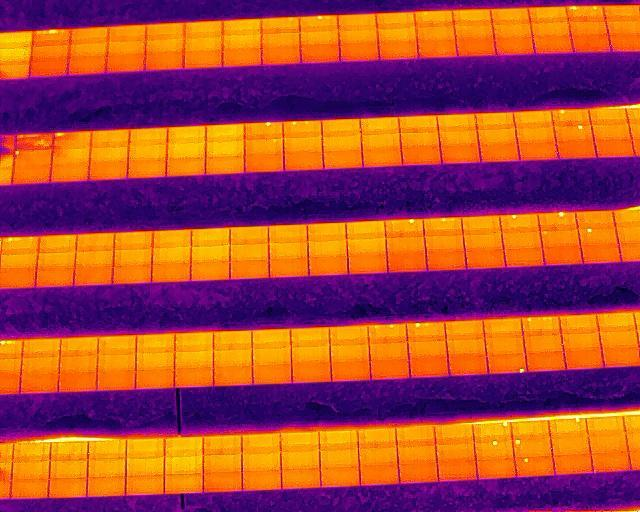Cell: (500, 212, 539, 233), (513, 437, 552, 458), (514, 455, 553, 476), (475, 439, 513, 460), (489, 352, 527, 373), (13, 147, 52, 166), (538, 211, 576, 230), (474, 421, 512, 440), (549, 419, 587, 438), (385, 218, 422, 237), (52, 130, 91, 148), (555, 124, 594, 142), (542, 228, 579, 246), (578, 228, 617, 245), (245, 138, 284, 155), (416, 9, 453, 26), (245, 122, 282, 139), (551, 110, 590, 125)
Cell-Multi: (423, 217, 462, 236), (368, 324, 406, 342), (14, 131, 52, 149), (301, 15, 340, 32), (521, 316, 559, 333), (33, 29, 71, 46), (0, 235, 40, 251), (567, 4, 604, 21), (406, 323, 445, 339), (283, 121, 322, 137)
No-Anomaly: (345, 220, 387, 241), (345, 236, 386, 256), (253, 363, 292, 384), (485, 334, 524, 355), (524, 332, 563, 353), (175, 330, 214, 351), (291, 326, 330, 347), (87, 477, 126, 498), (88, 457, 127, 478), (528, 349, 565, 371), (12, 442, 52, 462), (448, 354, 488, 374), (387, 253, 427, 273), (543, 245, 581, 266), (10, 479, 48, 500), (554, 453, 592, 474), (503, 229, 542, 249), (203, 471, 242, 491), (243, 470, 282, 490), (320, 467, 359, 487), (550, 435, 589, 455), (97, 334, 136, 354), (136, 332, 175, 352), (49, 478, 88, 498), (438, 111, 477, 131), (465, 250, 503, 270), (127, 476, 165, 496), (165, 474, 203, 494), (461, 216, 501, 235), (282, 468, 320, 488), (592, 451, 630, 471), (358, 445, 398, 464), (436, 442, 474, 462), (204, 434, 242, 454), (436, 424, 474, 444), (21, 372, 59, 392), (136, 369, 174, 389), (292, 362, 330, 382), (213, 347, 253, 366), (560, 314, 598, 334), (165, 454, 203, 474), (114, 247, 153, 266), (581, 244, 620, 263), (39, 234, 78, 253), (115, 230, 154, 249), (191, 228, 230, 247), (127, 439, 166, 458), (165, 437, 204, 456), (397, 426, 436, 445), (175, 367, 214, 386), (214, 365, 253, 384), (331, 361, 370, 380), (410, 356, 449, 375), (565, 349, 604, 368), (253, 345, 292, 364), (446, 336, 485, 355), (113, 265, 152, 284), (191, 261, 230, 280), (426, 251, 465, 270), (399, 463, 438, 482), (0, 268, 37, 288), (477, 459, 514, 479), (153, 229, 191, 248), (230, 226, 268, 245), (519, 141, 557, 160), (377, 10, 415, 29), (88, 439, 126, 458), (511, 419, 549, 438), (371, 358, 409, 377), (175, 349, 213, 368), (369, 341, 407, 360), (36, 268, 74, 287), (270, 258, 308, 277), (360, 465, 398, 484), (206, 123, 244, 142), (438, 461, 476, 480), (12, 461, 50, 480), (50, 459, 88, 478), (127, 457, 165, 476), (385, 236, 425, 254), (363, 148, 403, 166), (439, 127, 479, 145), (77, 233, 114, 252), (403, 146, 440, 165), (321, 448, 358, 467), (587, 416, 624, 435), (598, 312, 635, 331), (75, 249, 114, 267), (504, 248, 543, 266), (191, 244, 230, 262), (308, 238, 347, 256), (464, 234, 503, 252), (206, 155, 245, 173), (480, 142, 519, 160), (595, 140, 634, 158), (284, 136, 323, 154), (204, 454, 243, 472), (398, 445, 437, 463), (320, 430, 359, 448), (358, 427, 397, 445), (59, 371, 98, 389), (97, 371, 136, 389), (22, 355, 61, 373), (97, 353, 136, 371), (136, 352, 175, 370), (291, 344, 330, 362), (330, 343, 369, 361), (408, 339, 447, 357), (562, 332, 601, 350), (213, 329, 252, 347), (330, 325, 369, 343), (152, 262, 191, 280), (230, 260, 269, 278), (309, 256, 348, 274), (129, 127, 168, 145), (361, 117, 400, 135), (475, 110, 514, 128), (269, 224, 307, 242), (89, 160, 127, 178), (206, 139, 244, 157), (243, 452, 281, 470), (282, 450, 320, 468), (51, 442, 89, 460), (243, 434, 281, 452), (59, 354, 97, 372), (603, 348, 639, 367), (22, 338, 60, 356), (61, 336, 97, 355), (252, 328, 290, 346), (446, 319, 484, 337), (484, 317, 522, 335), (74, 267, 112, 285), (91, 128, 129, 146), (323, 118, 361, 136), (400, 115, 438, 133), (107, 54, 145, 72), (109, 24, 147, 42), (166, 157, 206, 174), (167, 125, 207, 142), (222, 49, 262, 66), (307, 223, 344, 241), (441, 143, 478, 161), (557, 141, 594, 159), (589, 435, 626, 453), (282, 433, 319, 451), (601, 331, 638, 349), (515, 109, 552, 127), (152, 246, 191, 263), (230, 243, 269, 260), (245, 154, 284, 171), (52, 145, 91, 162), (89, 144, 128, 161), (167, 141, 206, 158), (323, 134, 362, 151), (528, 6, 567, 23), (0, 252, 39, 269), (38, 251, 77, 268), (378, 26, 417, 43), (269, 241, 307, 258), (51, 161, 89, 178), (323, 150, 361, 167), (516, 125, 554, 142), (146, 52, 184, 69), (417, 24, 455, 41), (127, 158, 167, 174), (223, 19, 263, 35), (361, 132, 401, 148), (339, 13, 376, 30), (593, 123, 630, 140), (457, 39, 494, 56), (575, 212, 614, 228), (12, 166, 51, 182), (284, 153, 323, 169), (348, 255, 387, 271), (339, 44, 378, 60), (379, 43, 418, 59), (418, 41, 457, 57), (146, 37, 185, 53), (223, 33, 262, 49), (531, 22, 569, 38), (185, 21, 223, 37), (570, 21, 608, 37), (401, 131, 439, 147), (479, 127, 517, 143), (590, 109, 628, 125), (263, 47, 301, 63), (108, 39, 146, 55), (495, 37, 533, 53), (146, 22, 184, 38), (426, 235, 463, 251), (263, 17, 300, 33), (69, 58, 106, 74), (70, 42, 107, 58), (572, 36, 609, 52), (72, 26, 109, 42), (127, 144, 166, 159), (493, 22, 532, 37), (453, 9, 491, 24), (32, 61, 70, 76), (32, 46, 70, 61), (301, 45, 339, 60), (339, 29, 377, 44), (185, 51, 222, 66), (456, 23, 493, 38), (261, 32, 300, 46), (300, 31, 339, 45), (492, 9, 530, 23), (533, 38, 571, 52), (185, 36, 222, 50)
